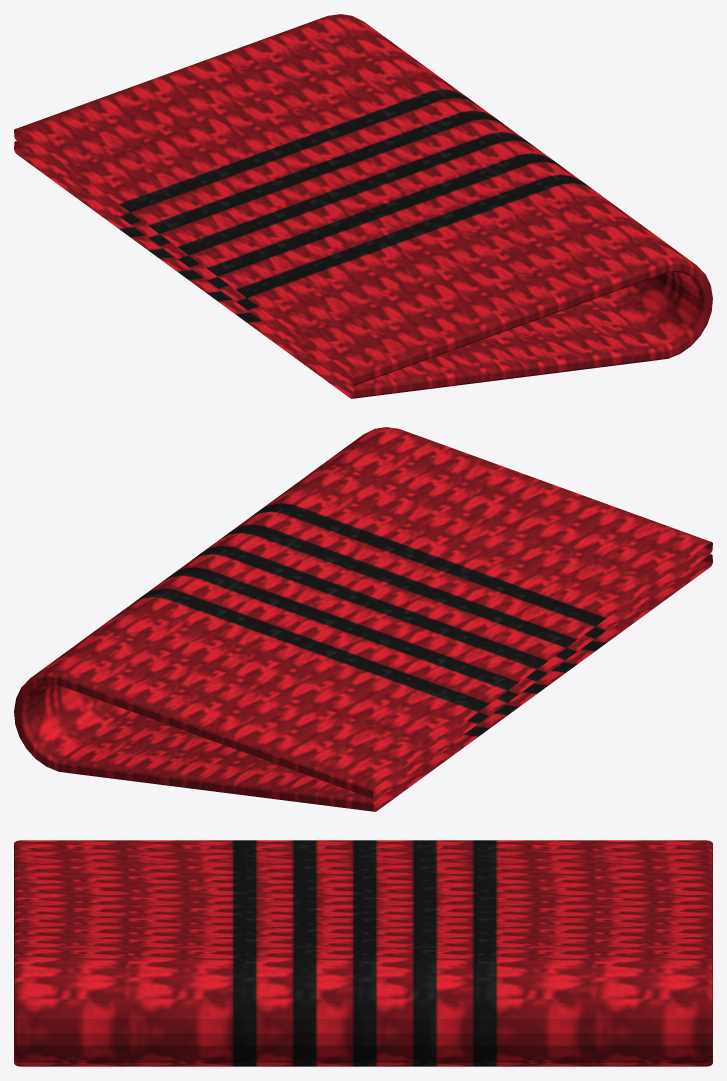
The model's file is schlaufe_50mm_lc2500_rot_v34261.glb.
The picture shows the model from 3 angles, top to bottom: view 1: azimuth 30°, elevation 25°; view 2: azimuth 150°, elevation 25°; view 3: azimuth 270°, elevation 25°; orthographic projection. The views are drawn at different scales.
Visible parts, largest first — view 1: Schlaufe_25mm; view 2: Schlaufe_25mm; view 3: Schlaufe_25mm.
Boxes of the visible parts, box(x1,y1,x2,y2) form: Schlaufe_25mm: box(14, 14, 712, 398); Schlaufe_25mm: box(14, 427, 712, 811); Schlaufe_25mm: box(14, 840, 712, 1066).
Size of the model in its own units: 1.23 by 0.3206 by 2.
1 material, 1 textured.
